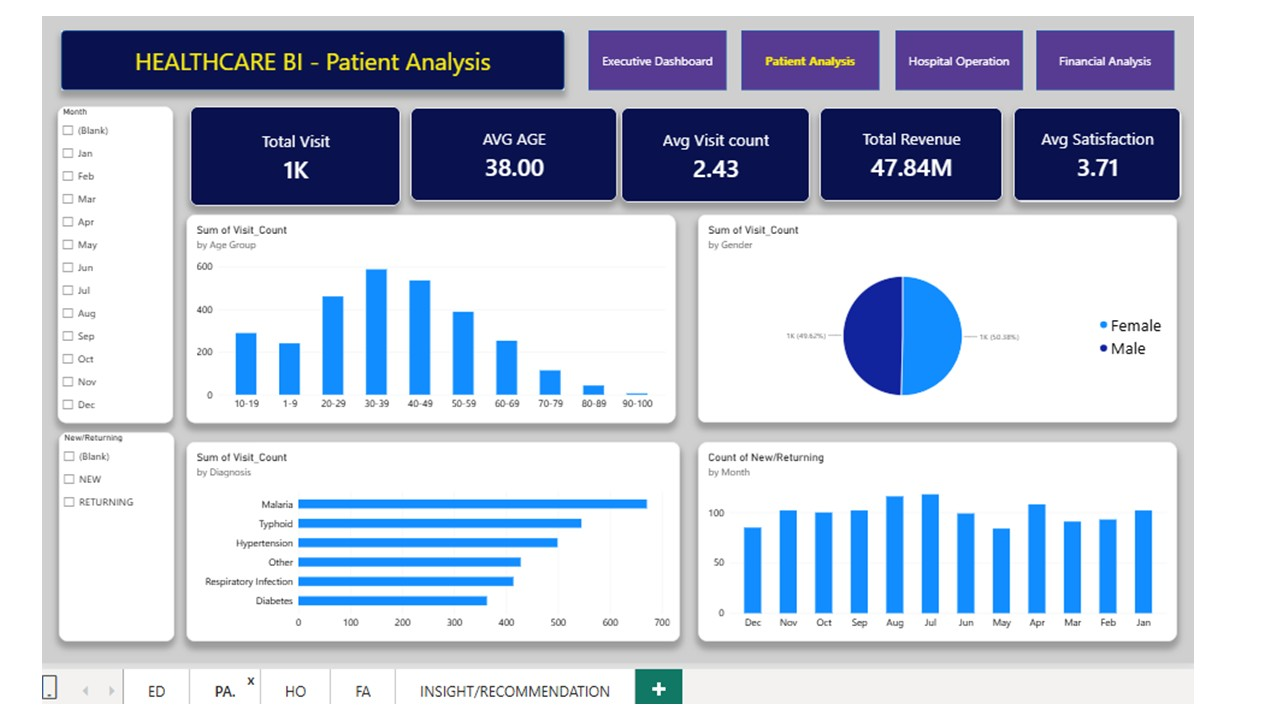

This screenshot's page, from the dashboard's own definition file:
{"tool":"powerbi","page":{"name":"PA.","canvas":[1920,1080],"ordinal":1},"visuals":[{"type":"cardVisual","fields":{"Data":["Patient_Visits.Total Visit"]},"box":[249.8,154.8,351,156.9],"z":0},{"type":"cardVisual","fields":{"Data":["Patient_Visits.AVG AGE"]},"box":[616,156,344,156],"z":1000},{"type":"cardVisual","fields":{"Data":["Patient_Visits.Avg Visit count"]},"box":[975.9,155.1,304.4,159.1],"z":2000},{"type":"cardVisual","fields":{"Data":["Patient_Visits.Total Revenue"]},"box":[1296,156,304,156],"z":3000},{"type":"cardVisual","fields":{"Data":["Patient_Visits.Avg Satisfaction"]},"box":[1617.8,155.5,278.7,156.9],"z":4000},{"type":"clusteredColumnChart","fields":{"Category":["Patient_Visits.Age Group"],"Y":["Sum(Patient_Visits.Visit_Count)"]},"box":[243.5,333.8,820.8,347.6],"z":5000},{"type":"pieChart","fields":{"Category":["Patient_Visits.Gender"],"Y":["Sum(Patient_Visits.Visit_Count)"]},"box":[1078,333.8,812.9,345.6],"z":6000},{"type":"clusteredBarChart","fields":{"Category":["Patient_Visits.Diagnosis"],"Y":["Sum(Patient_Visits.Visit_Count)"]},"box":[243.5,695.1,820.8,349.5],"z":7000},{"type":"clusteredColumnChart","fields":{"Category":["Patient_Visits.Month"],"Y":["CountNonNull(Patient_Visits.New/Returning)"]},"box":[1078,695.1,812.9,349.5],"z":8000},{"type":"slicer","fields":{"Values":["Patient_Visits.Month"]},"box":[30,153.3,191.7,526.7],"z":9000},{"type":"slicer","fields":{"Values":["Patient_Visits.New/Returning"]},"box":[31.7,695,191.7,348.3],"z":10000},{"type":"shape","title":"HEALTHCARE BI","box":[36.7,28.1,835.9,99.4],"z":11000},{"type":"shape","box":[911.5,28.1,229,99.4],"z":12000},{"type":"shape","box":[1166.4,28.1,229,99.4],"z":13000},{"type":"shape","box":[1421.3,28.1,211.7,99.4],"z":14000},{"type":"shape","box":[1656.7,28.1,229,99.4],"z":15000}]}

Visuals, with their boxes on the page's 1920x1080 design canvas (x1, y1, x2, y2). These are canvas units, not pixel positions in the 1280x720 screenshot, which may show the page scaled, cropped or inside an application window:
cardVisual - Patient_Visits.Total Visit: detection(250, 155, 601, 312)
cardVisual - Patient_Visits.AVG AGE: detection(616, 156, 960, 312)
cardVisual - Patient_Visits.Avg Visit count: detection(976, 155, 1280, 314)
cardVisual - Patient_Visits.Total Revenue: detection(1296, 156, 1600, 312)
cardVisual - Patient_Visits.Avg Satisfaction: detection(1618, 156, 1896, 312)
clusteredColumnChart - Patient_Visits.Age Group x Sum(Patient_Visits.Visit_Count): detection(244, 334, 1064, 681)
pieChart - Patient_Visits.Gender x Sum(Patient_Visits.Visit_Count): detection(1078, 334, 1891, 679)
clusteredBarChart - Patient_Visits.Diagnosis x Sum(Patient_Visits.Visit_Count): detection(244, 695, 1064, 1045)
clusteredColumnChart - Patient_Visits.Month x CountNonNull(Patient_Visits.New/Returning): detection(1078, 695, 1891, 1045)
slicer - Patient_Visits.Month: detection(30, 153, 222, 680)
slicer - Patient_Visits.New/Returning: detection(32, 695, 223, 1043)
"HEALTHCARE BI" shape: detection(37, 28, 873, 128)
shape: detection(912, 28, 1140, 128)
shape: detection(1166, 28, 1395, 128)
shape: detection(1421, 28, 1633, 128)
shape: detection(1657, 28, 1886, 128)
